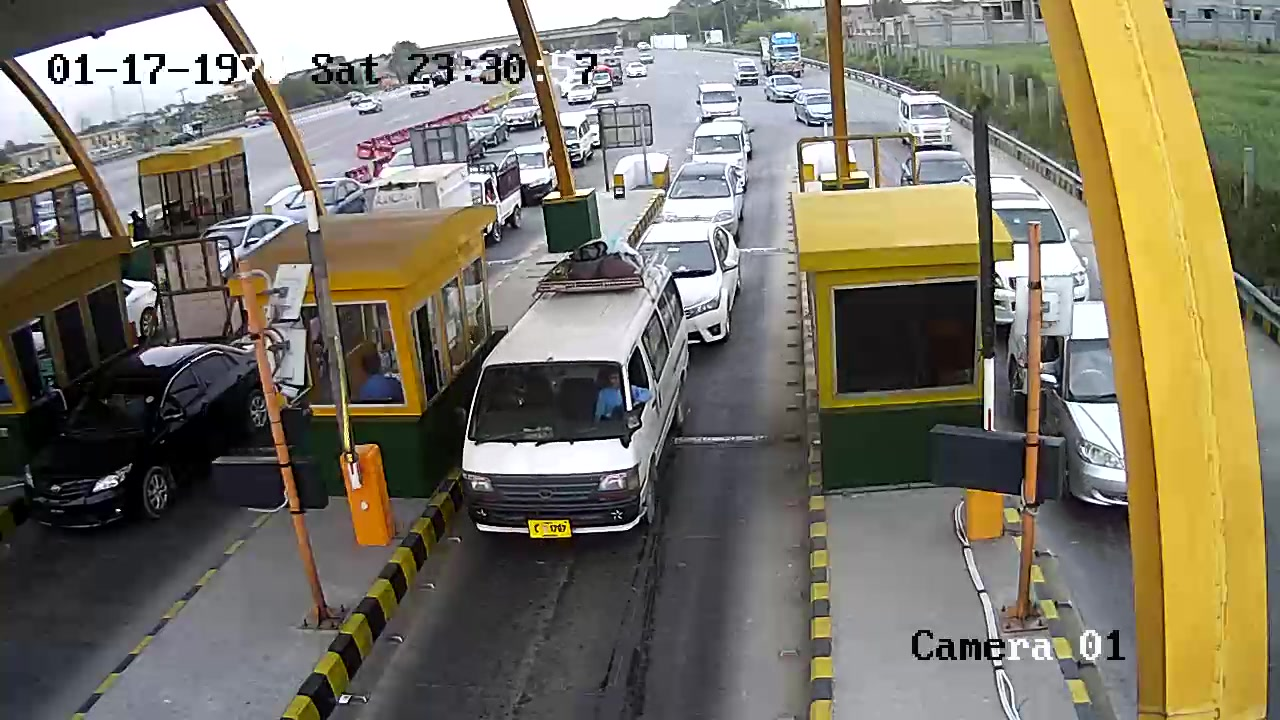F3: (463, 243, 700, 557)
